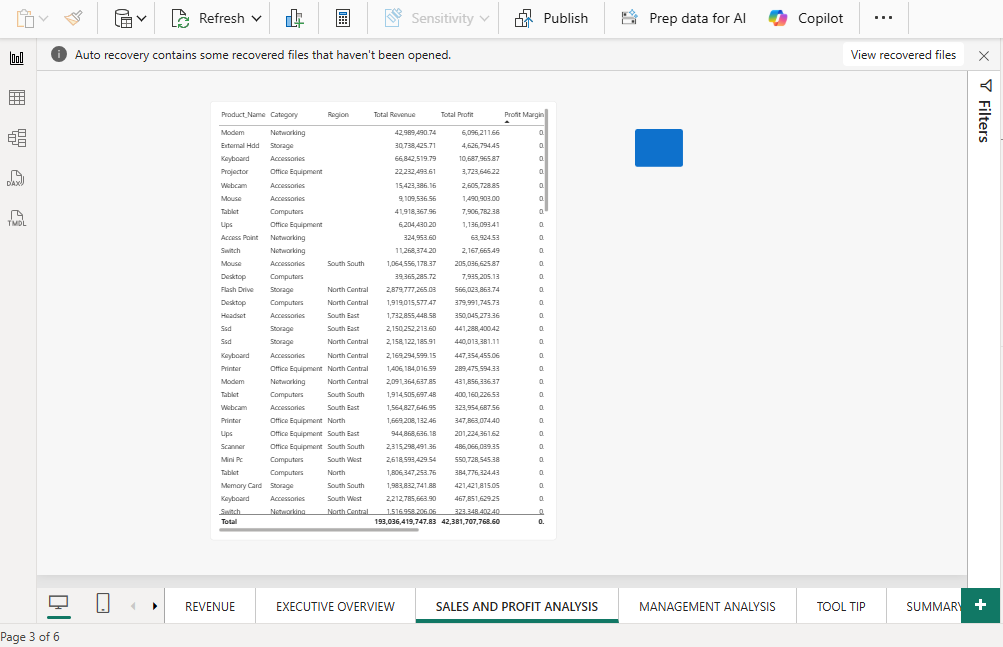

This screenshot's page, from the dashboard's own definition file:
{"tool":"powerbi","page":{"name":"SALES AND PROFIT ANALYSIS","canvas":[1920,1080],"ordinal":2},"visuals":[{"type":"tableEx","fields":{"Values":["Dim_Products.Product_Name","Dim_Products.Category","Dim_Customers.Region","Fact_Sales.Total Revenue","Fact_Sales.Total Profit","Fact_Sales.Profit Margin %","Fact_Targets.SALES TARGET","Fact_Sales.SALES VARIANCE","Fact_Sales.PERFORMANCE STATUS"]},"box":[357.2,103.2,715.6,907.1],"z":3},{"type":"actionButton","box":[1234.6,161,99.1,78.5],"z":4}]}

Visuals, with their boxes on the page's 1920x1080 design canvas (x1, y1, x2, y2). These are canvas units, not pixel positions in the 1003x647 screenshot, which may show the page scaled, cropped or inside an application window:
tableEx - Dim_Products.Product_Name x Dim_Products.Category: locate(357, 103, 1073, 1010)
actionButton: locate(1235, 161, 1334, 240)
